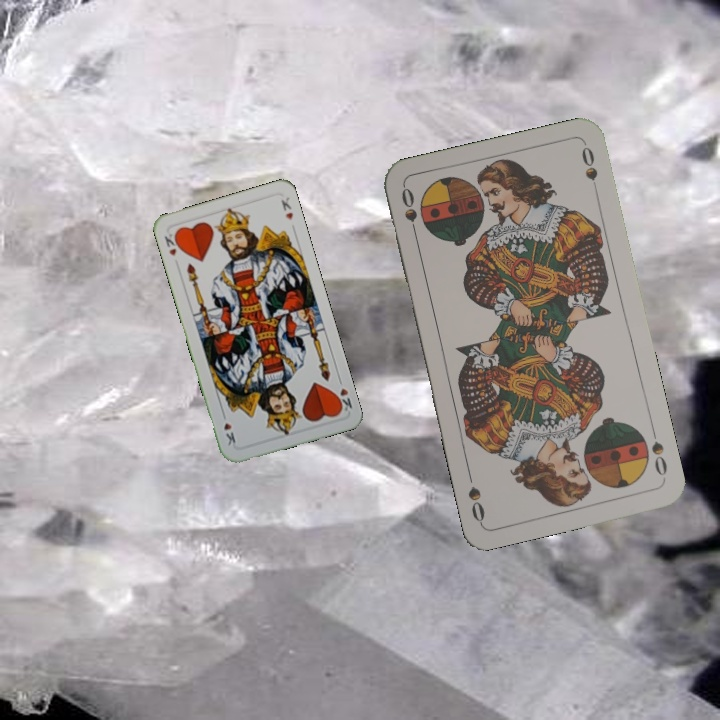HK: (331, 374, 355, 414), (160, 228, 183, 259)
SO: (397, 183, 421, 242), (647, 423, 670, 478)
